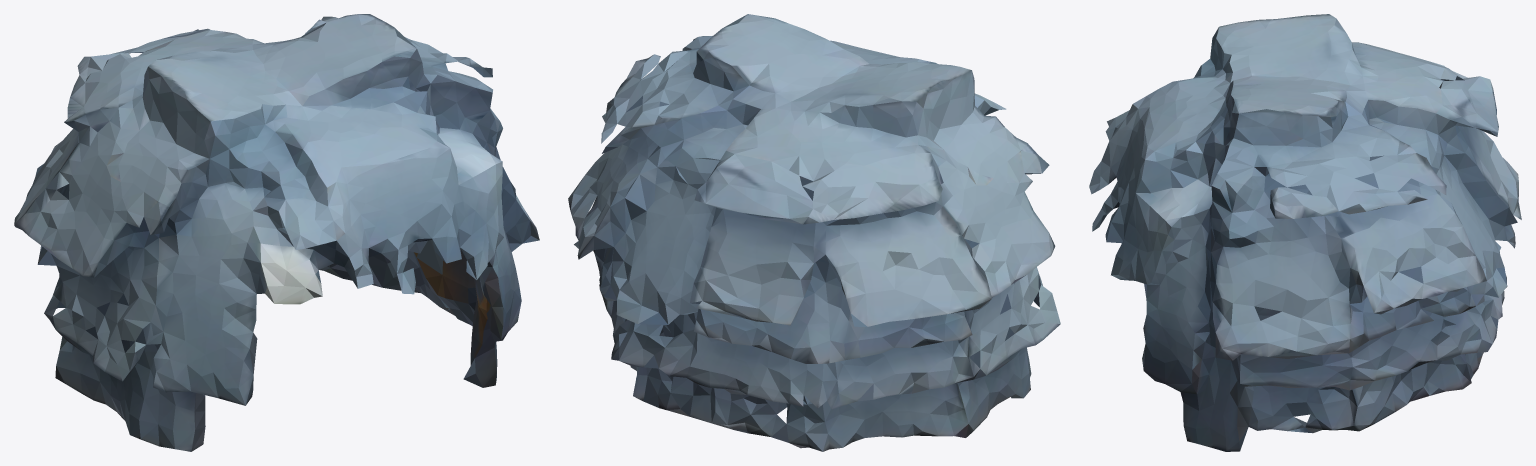
Rendered from hairstyle_074.glb.
The picture shows the model from 3 angles, left to right: view 1: azimuth 30°, elevation 25°; view 2: azimuth 150°, elevation 25°; view 3: azimuth 270°, elevation 25°; orthographic projection. The views are drawn at different scales.
Visible parts, largest first — view 1: geometry_0_074; view 2: geometry_0_074; view 3: geometry_0_074.
Part boxes in pixels (x1,y1,x2,y2): geometry_0_074: [14, 14, 539, 451]; geometry_0_074: [568, 14, 1060, 451]; geometry_0_074: [1089, 14, 1521, 451].
Bounding box in the file's own units: 1.4 × 1.02 × 1.29.
1 material, 1 textured.
